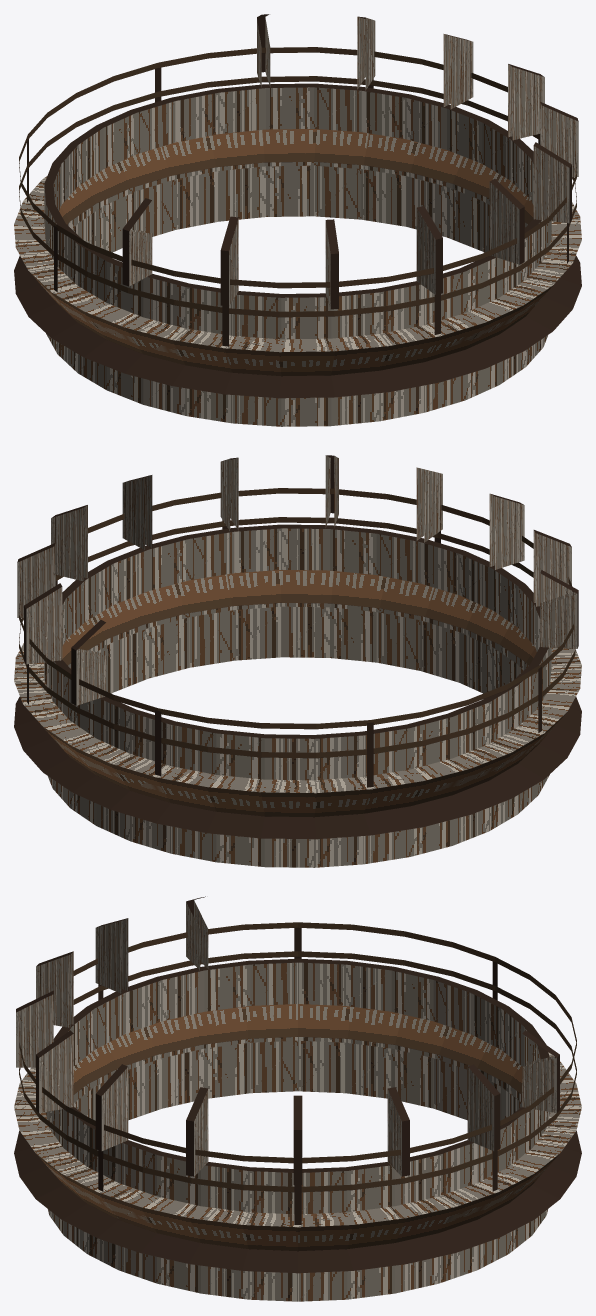
File: TOR-02_Corona_de_torre_c.gltf
The picture shows the model from 3 angles, top to bottom: view 1: azimuth 30°, elevation 25°; view 2: azimuth 150°, elevation 25°; view 3: azimuth 270°, elevation 25°; orthographic projection.
Visible parts, largest first — view 1: TOR-02_Corona_de_torre_c-col; view 2: TOR-02_Corona_de_torre_c-col; view 3: TOR-02_Corona_de_torre_c-col.
Part boxes in pixels (bbox=[...]): TOR-02_Corona_de_torre_c-col: bbox=[14, 14, 581, 426]; TOR-02_Corona_de_torre_c-col: bbox=[14, 455, 581, 867]; TOR-02_Corona_de_torre_c-col: bbox=[14, 896, 581, 1301].
Bounding box in the file's own units: 5.6 × 2.2 × 5.6.
1 material, 1 textured.
